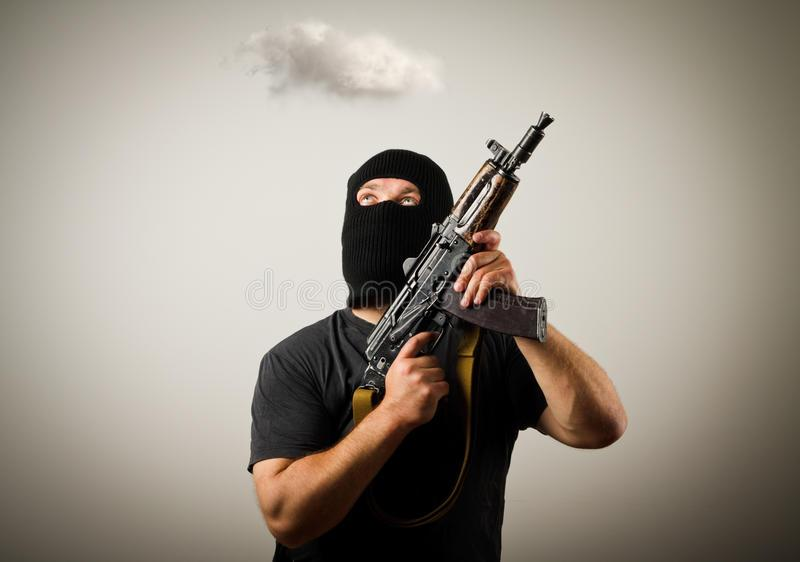criminal: (247, 107, 627, 562)
weapon: (348, 108, 559, 443)
